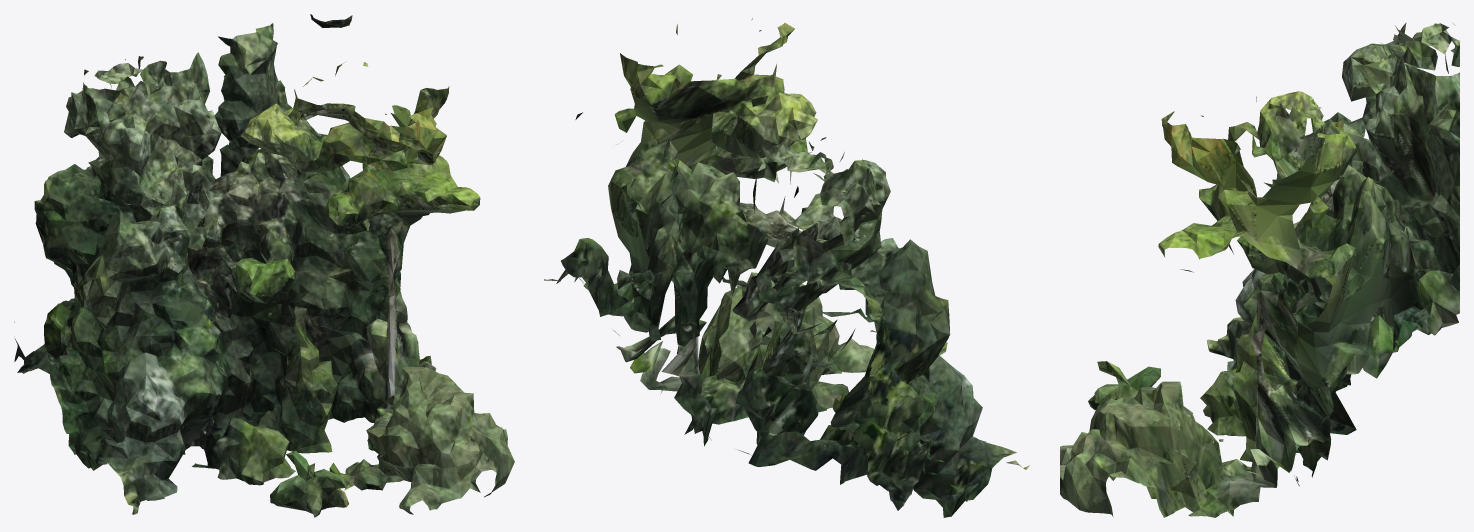
3 views of the same model, side by side, from view 1: azimuth 30°, elevation 25°; view 2: azimuth 150°, elevation 25°; view 3: azimuth 270°, elevation 25° (orthographic). The views are drawn at different scales.
Bounding box in the file's own units: 26.11 × 26.11 × 26.11.
Materials: 9 (9 with a texture image).
